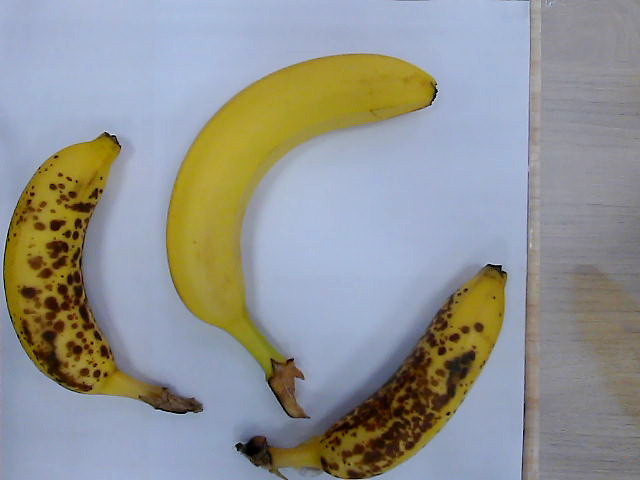fresh_banana: (165, 54, 436, 419)
rotten_banana: (5, 135, 208, 417), (246, 267, 509, 480)
